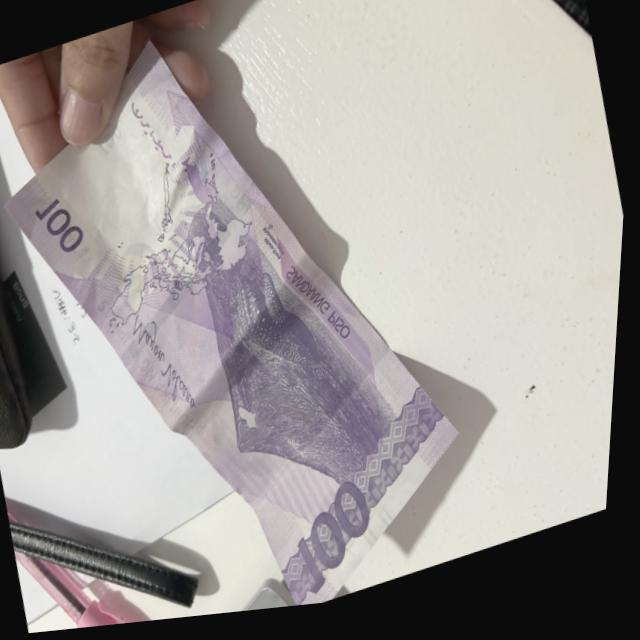100_whale: (221, 242, 333, 397)
100_whale_watermark: (179, 160, 225, 223)
value_watermark: (89, 127, 128, 164)
